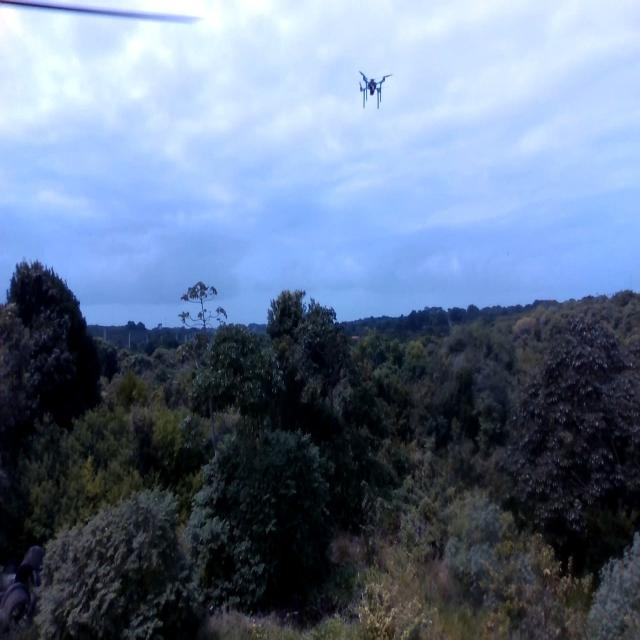-uav-: (348, 62, 399, 117)
